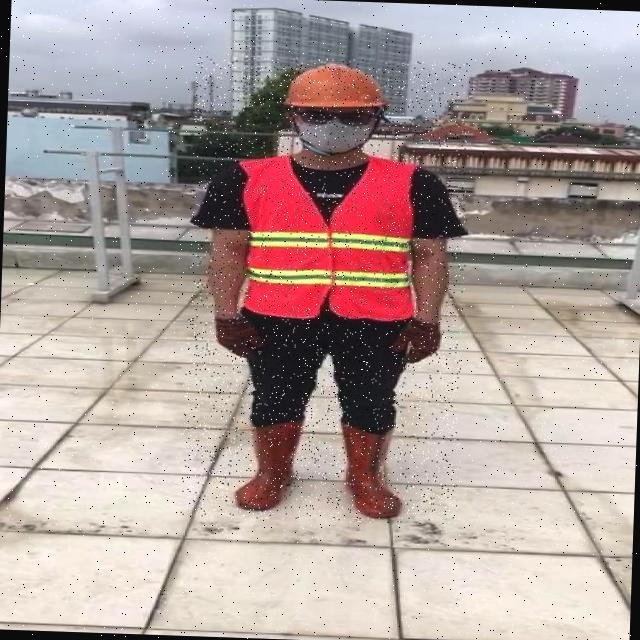boots: (334, 423, 408, 518), (238, 418, 308, 512)
helmet: (284, 59, 392, 112)
vest: (238, 151, 418, 322)
